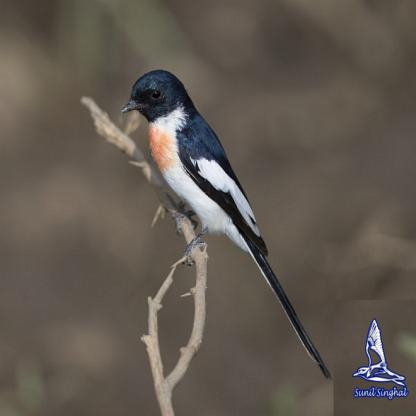Burung: (120, 69, 331, 378)
